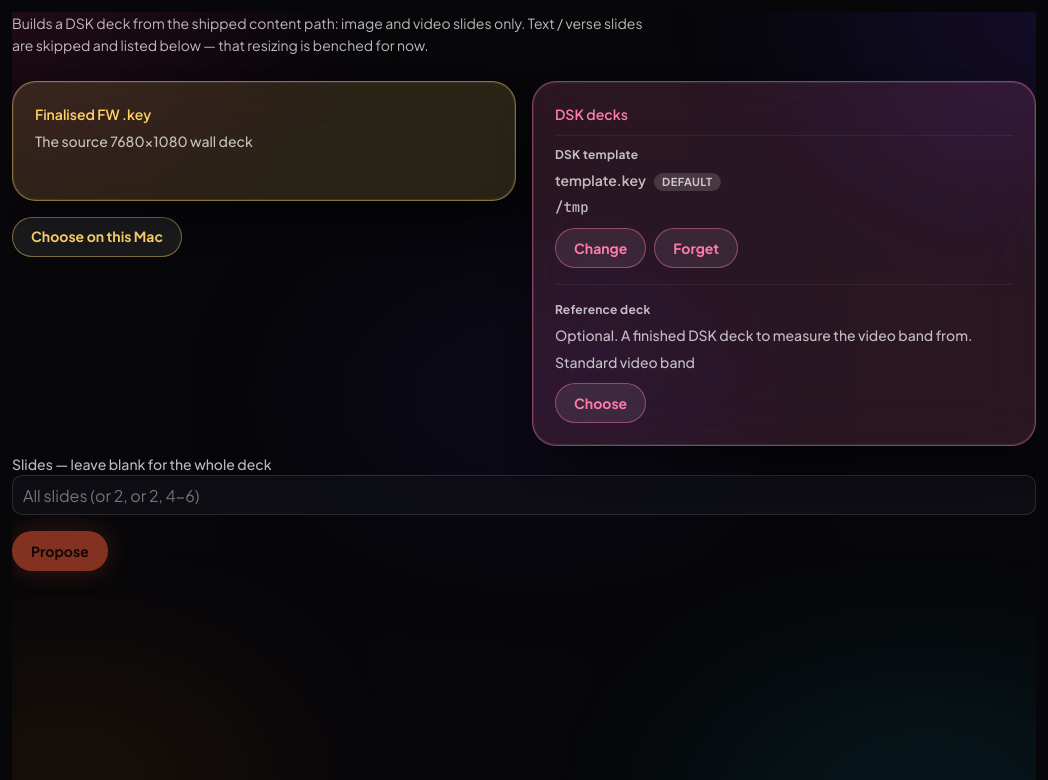
it: DskGenerator template memory › shows the save failure on the template row and keeps the previous template
Click the button with aria-label "Change DSK template".
click(601, 248)  # box [555, 228, 646, 268]
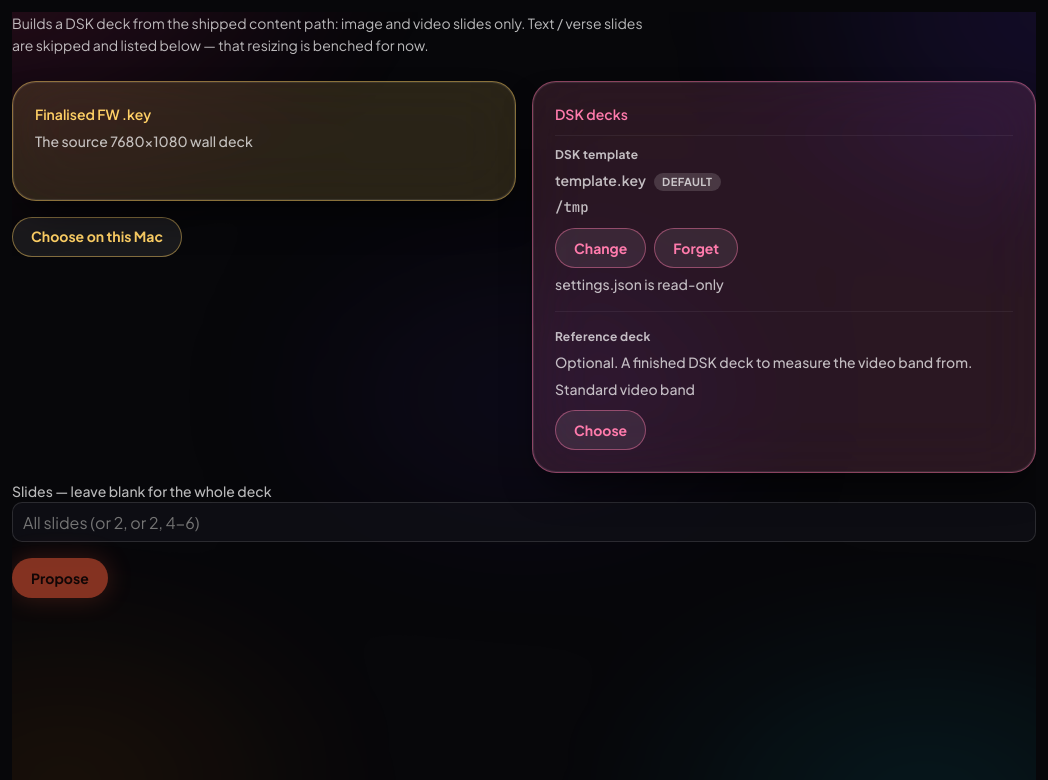
Check: the text "template.key" is shown, box [555, 171, 646, 189]
Check: the message reads "settings.json is read-only", box [555, 275, 724, 293]
